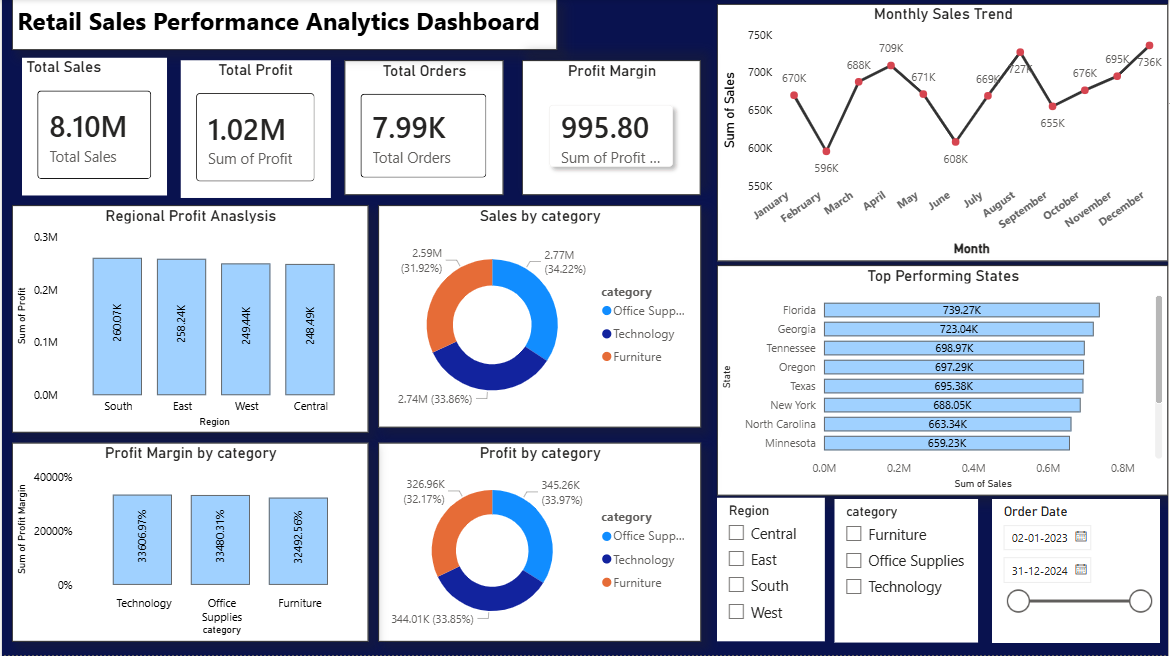

What the dashboard file says about the page in this screenshot:
{"tool":"powerbi","page":{"name":"Page 1","canvas":[1280,720],"ordinal":0},"visuals":[{"type":"cardVisual","title":"Total Orders","fields":{"Data":["Ecommerce_PowerBI_Dataset_8000Rows.Total Orders"]},"box":[376,67.2,174.3,148.2],"z":0},{"type":"textbox","box":[11,0,598.3,56.3],"z":1000},{"type":"cardVisual","title":"Total Sales","fields":{"Data":["Ecommerce_PowerBI_Dataset_8000Rows.Total Sales"]},"box":[22,64.5,159.2,150.9],"z":2000},{"type":"cardVisual","title":"Total Profit","fields":{"Data":["Sum(Ecommerce_PowerBI_Dataset_8000Rows.Profit)"]},"box":[196.2,67.2,164.7,150.9],"z":3000},{"type":"lineChart","title":"Monthly Sales Trend","fields":{"Y":["Sum(Ecommerce_PowerBI_Dataset_8000Rows.Sales)"],"Category":["Ecommerce_PowerBI_Dataset_8000Rows.Order Date.Variation.Date Hierarchy.Month"]},"box":[784.9,5.5,495.4,282.7],"z":4000},{"type":"clusteredBarChart","title":"Top Performing States","fields":{"Category":["Ecommerce_PowerBI_Dataset_8000Rows.State"],"Y":["Sum(Ecommerce_PowerBI_Dataset_8000Rows.Sales)"]},"box":[784.9,292.3,495.4,252.5],"z":5000},{"type":"columnChart","title":" Regional Profit Anaslysis","fields":{"Category":["Ecommerce_PowerBI_Dataset_8000Rows.Region"],"Y":["Sum(Ecommerce_PowerBI_Dataset_8000Rows.Profit)"]},"box":[11,226.4,391.1,249.7],"z":6000},{"type":"donutChart","title":"Sales by category","fields":{"Y":["Sum(Ecommerce_PowerBI_Dataset_8000Rows.Sales)"],"Category":["Ecommerce_PowerBI_Dataset_8000Rows.category"]},"box":[413,226.4,354,244.3],"z":7000},{"type":"donutChart","title":" Profit by category","fields":{"Category":["Ecommerce_PowerBI_Dataset_8000Rows.category"],"Y":["Sum(Ecommerce_PowerBI_Dataset_8000Rows.Profit)"]},"box":[413,487.1,354,218.2],"z":8000},{"type":"columnChart","title":"Profit Margin by category","fields":{"Category":["Ecommerce_PowerBI_Dataset_8000Rows.category"],"Y":["Sum(Ecommerce_PowerBI_Dataset_8000Rows.Profit Margin)"]},"box":[11,487.1,391.1,218.2],"z":9000},{"type":"slicer","fields":{"Values":["Ecommerce_PowerBI_Dataset_8000Rows.Region"]},"box":[784.9,547.5,118,157.8],"z":10000},{"type":"slicer","fields":{"Values":["Ecommerce_PowerBI_Dataset_8000Rows.category"]},"box":[913.9,548.9,157.8,157.8],"z":11000},{"type":"slicer","fields":{"Values":["Ecommerce_PowerBI_Dataset_8000Rows.Order Date"]},"box":[1086.8,548.9,183.9,157.8],"z":12000},{"type":"cardVisual","title":"Profit Margin","fields":{"Data":["Sum(Ecommerce_PowerBI_Dataset_8000Rows.Profit Margin)"]},"box":[570.8,67.2,196.2,148.2],"z":13000}]}

Visuals, with their boxes in screenshot pixels (x1, y1, x2, y2), scaled from the page's 1280x720 canvas onto the 1170x656 screenshot:
"Total Orders" cardVisual: <region>344, 61, 503, 196</region>
textbox: <region>10, 0, 557, 51</region>
"Total Sales" cardVisual: <region>20, 59, 166, 196</region>
"Total Profit" cardVisual: <region>179, 61, 330, 199</region>
"Monthly Sales Trend" lineChart: <region>717, 5, 1169, 263</region>
"Top Performing States" clusteredBarChart: <region>717, 266, 1169, 496</region>
" Regional Profit Anaslysis" columnChart: <region>10, 206, 368, 434</region>
"Sales by category" donutChart: <region>378, 206, 701, 429</region>
" Profit by category" donutChart: <region>378, 444, 701, 643</region>
"Profit Margin by category" columnChart: <region>10, 444, 368, 643</region>
slicer - Ecommerce_PowerBI_Dataset_8000Rows.Region: <region>717, 499, 825, 643</region>
slicer - Ecommerce_PowerBI_Dataset_8000Rows.category: <region>835, 500, 980, 644</region>
slicer - Ecommerce_PowerBI_Dataset_8000Rows.Order Date: <region>993, 500, 1161, 644</region>
"Profit Margin" cardVisual: <region>522, 61, 701, 196</region>
